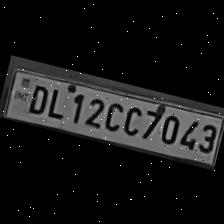0: (154, 108, 182, 144)
1: (62, 86, 87, 124)
2: (80, 90, 108, 128)
3: (192, 116, 220, 154)
4: (174, 112, 201, 150)
7: (136, 102, 162, 140)
C: (100, 94, 126, 132), (118, 99, 144, 137)
D: (23, 79, 52, 116)
L: (42, 82, 72, 120)
